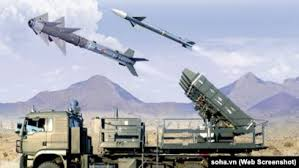ten_lua: (112, 4, 198, 51)
